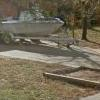Boat: (2, 10, 64, 44)
